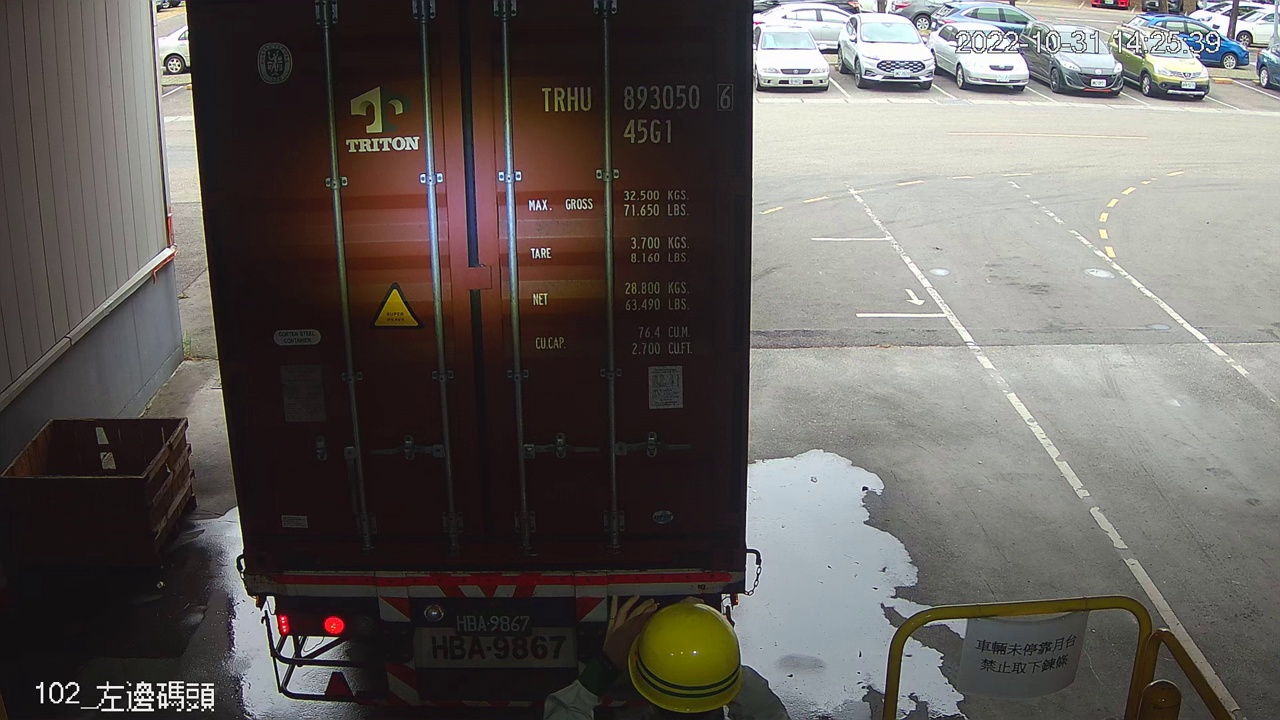container: (530, 75, 739, 150)
